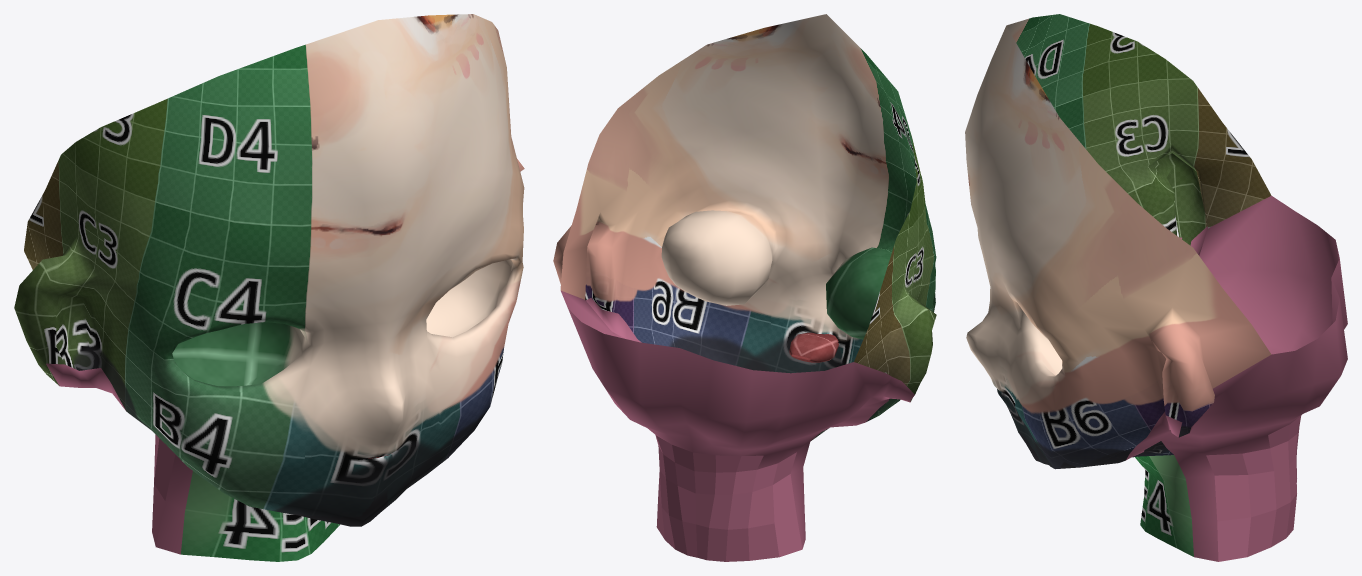
File: natsu_swimsuit_head020_merge_sdftemp.fbx
3 renders of one model, left to right at view 1: azimuth 30°, elevation 25°; view 2: azimuth 150°, elevation 25°; view 3: azimuth 270°, elevation 25°, orthographic. The views are drawn at different scales.
Visible parts, largest first — view 1: FaceForSDF; view 2: FaceForSDF; view 3: FaceForSDF.
Part boxes in pixels (x1=…): FaceForSDF: x1=14, y1=14, x2=524, y2=561; FaceForSDF: x1=553, y1=14, x2=936, y2=561; FaceForSDF: x1=965, y1=14, x2=1347, y2=561.
Size of the model in its own units: 28.65 by 32.56 by 22.62.
